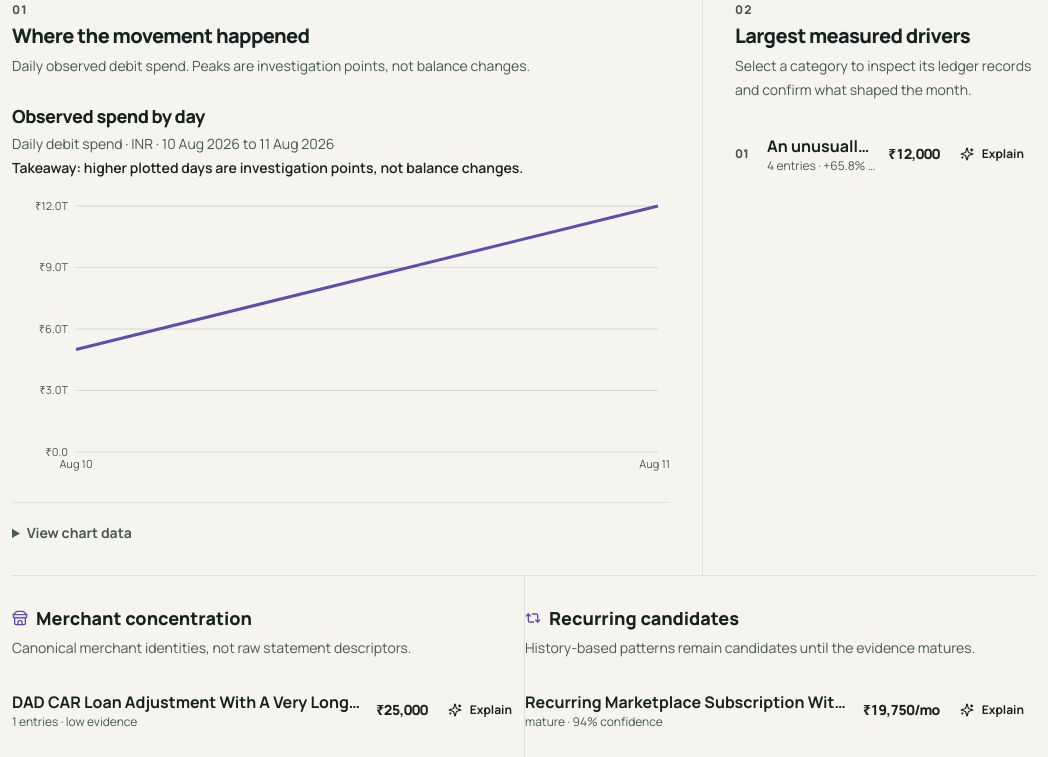
Insights investigation layout › pairs the daily trend with one ranked, ledger-linked driver list
The image size is (1048, 757).
(page scrolled)
Expected: the heading "Largest measured drivers" is shown, [735,22,970,49]
Expected: the button "An unusually long category name for a narrow panel" shows "4 entries", [735,126,940,182]
What coordinates should you click on to do the following:
click the heading "View chart data"
I would click on:
 (79, 532)
Its box is [27,523,132,542].
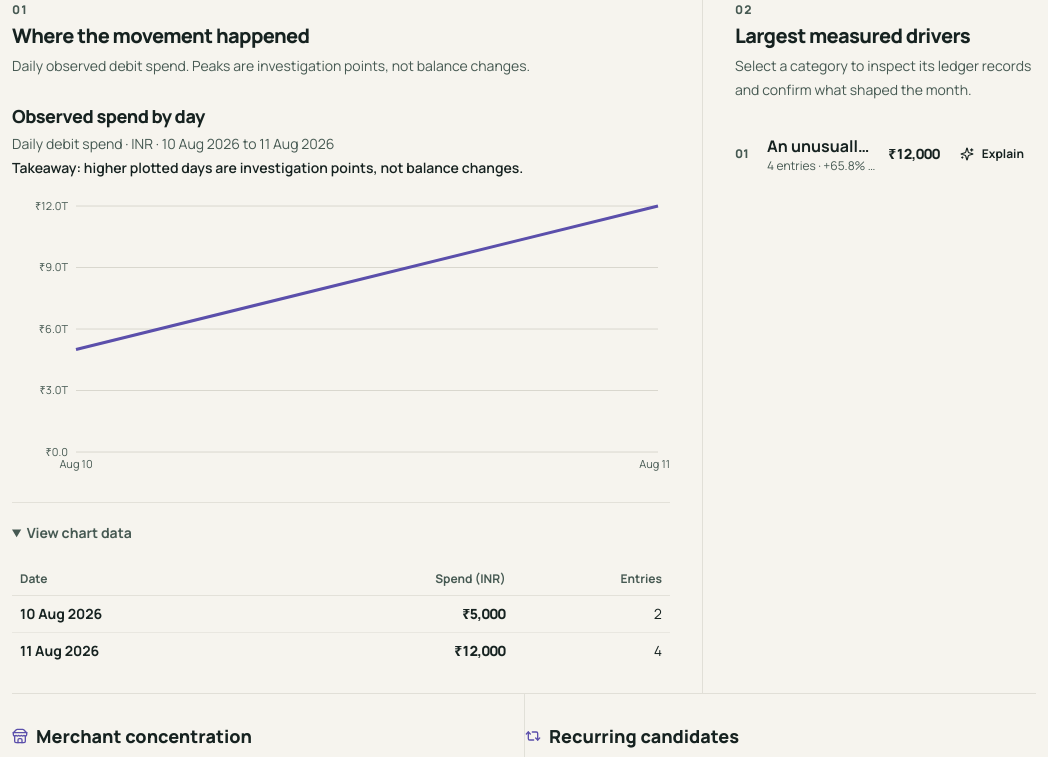
Expected: the heading "Merchant concentration" is shown, [12,724,252,748]
Now the table named "Daily observed debit spend and entry count" is shown, box [12,563,670,669]
